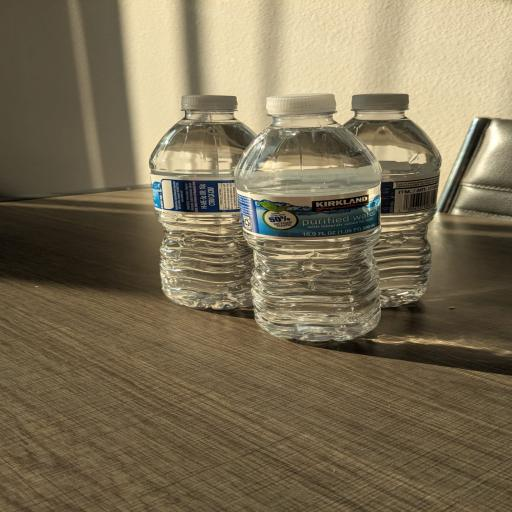waterbottle: (236, 94, 381, 342), (150, 95, 253, 309), (345, 94, 441, 306)
